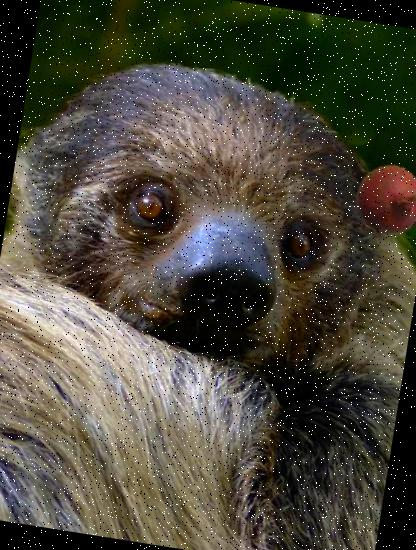Onion: (350, 159, 416, 239)
